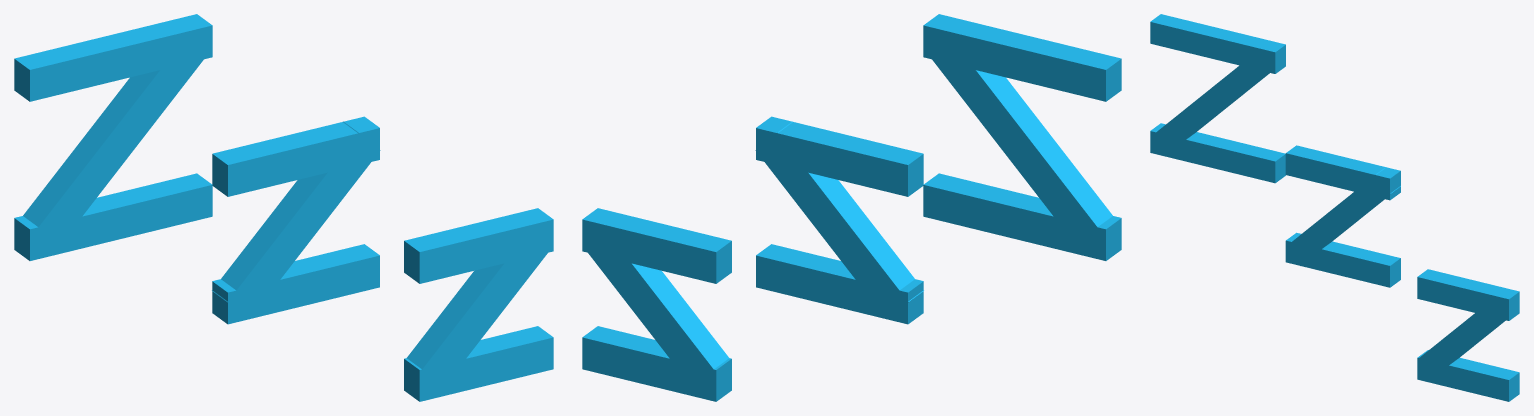
File: DeepSleep.fbx
3 renders of one model, left to right at view 1: azimuth 30°, elevation 25°; view 2: azimuth 150°, elevation 25°; view 3: azimuth 330°, elevation 25°, orthographic. The views are drawn at different scales.
Parts seen in each view (by area): view 1: Cube.009, Cube.003, Cube.006; view 2: Cube.009, Cube.003, Cube.006; view 3: Cube.009, Cube.003, Cube.006.
Boxes of the visible parts, x1,y1,x2,y2 form: Cube.009: (14,14,212,260); Cube.003: (212,116,380,324); Cube.006: (404,208,553,401); Cube.009: (923,14,1121,260); Cube.003: (755,116,923,324); Cube.006: (582,208,731,401); Cube.009: (1150,14,1285,183); Cube.003: (1285,145,1400,287); Cube.006: (1417,269,1519,401).
Size of the model in its own units: 155 by 121 by 8.
